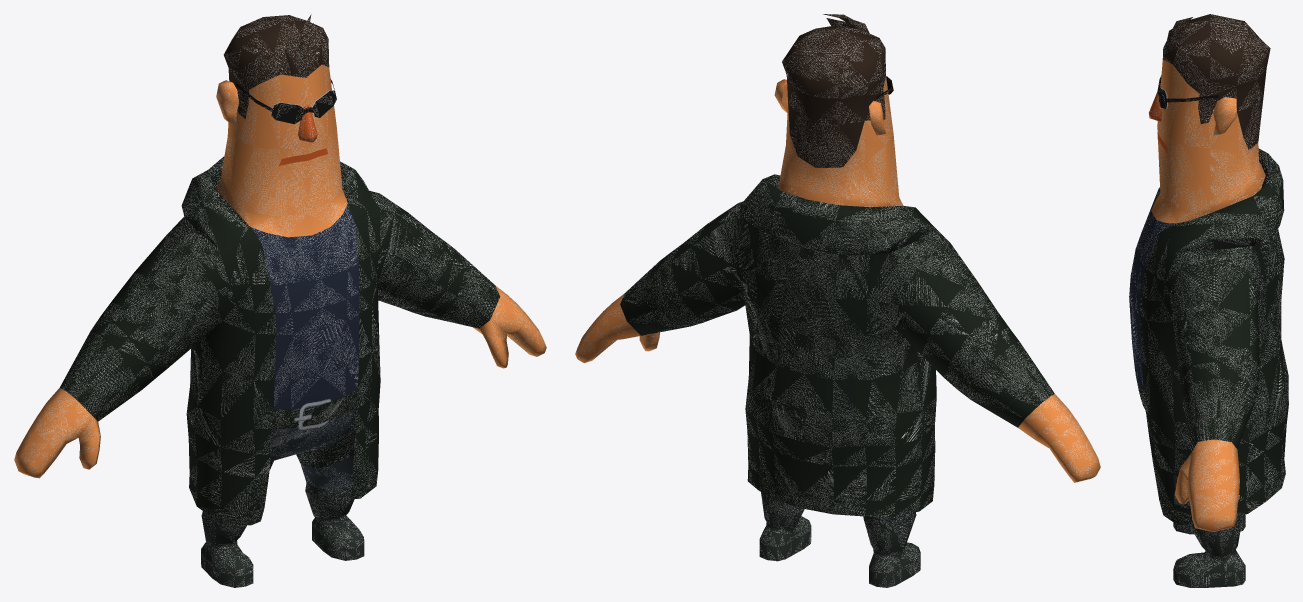
The model's file is BadGuy_2.fbx.
3 views of the same model, side by side, from view 1: azimuth 30°, elevation 25°; view 2: azimuth 150°, elevation 25°; view 3: azimuth 270°, elevation 25° (orthographic).
Visible parts, largest first — view 1: BadGuy; view 2: BadGuy; view 3: BadGuy.
Boxes of the visible parts, x1=… form: BadGuy: x1=14, y1=14, x2=546, y2=587; BadGuy: x1=575, y1=14, x2=1100, y2=587; BadGuy: x1=1129, y1=14, x2=1288, y2=587.
Size of the model in its own units: 189 by 188 by 50.57.
